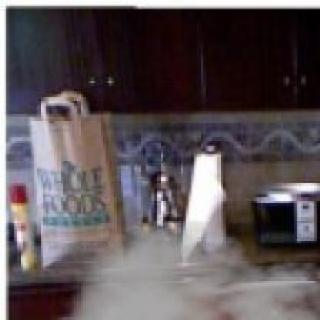smoke: (27, 209, 320, 320)
